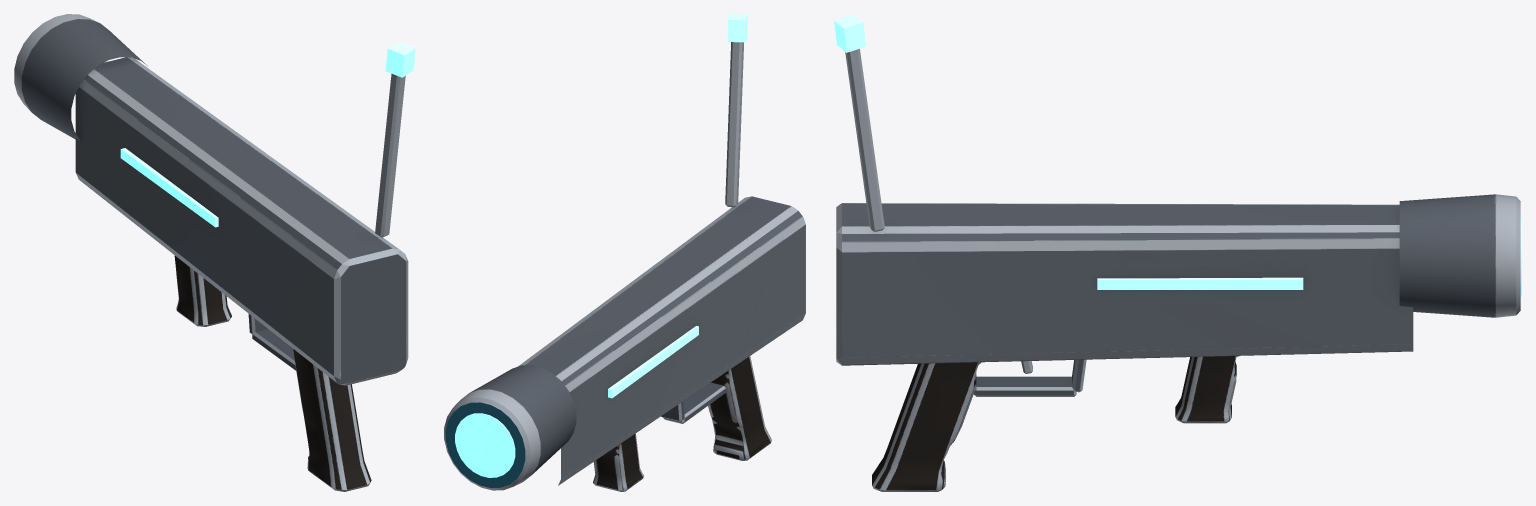
3 views of the same model, side by side, from view 1: azimuth 30°, elevation 25°; view 2: azimuth 150°, elevation 25°; view 3: azimuth 270°, elevation 25° (orthographic). The views are drawn at different scales.
Parts seen in each view (by area): view 1: body; view 2: body; view 3: body.
Part boxes in pixels (x1,y1,x2,y2): body: (14, 14, 415, 491); body: (444, 14, 805, 491); body: (834, 14, 1521, 491).
Size of the model in its own units: 0.0892 by 0.3859 by 0.5007.
Materials: 1 (1 with a texture image).
